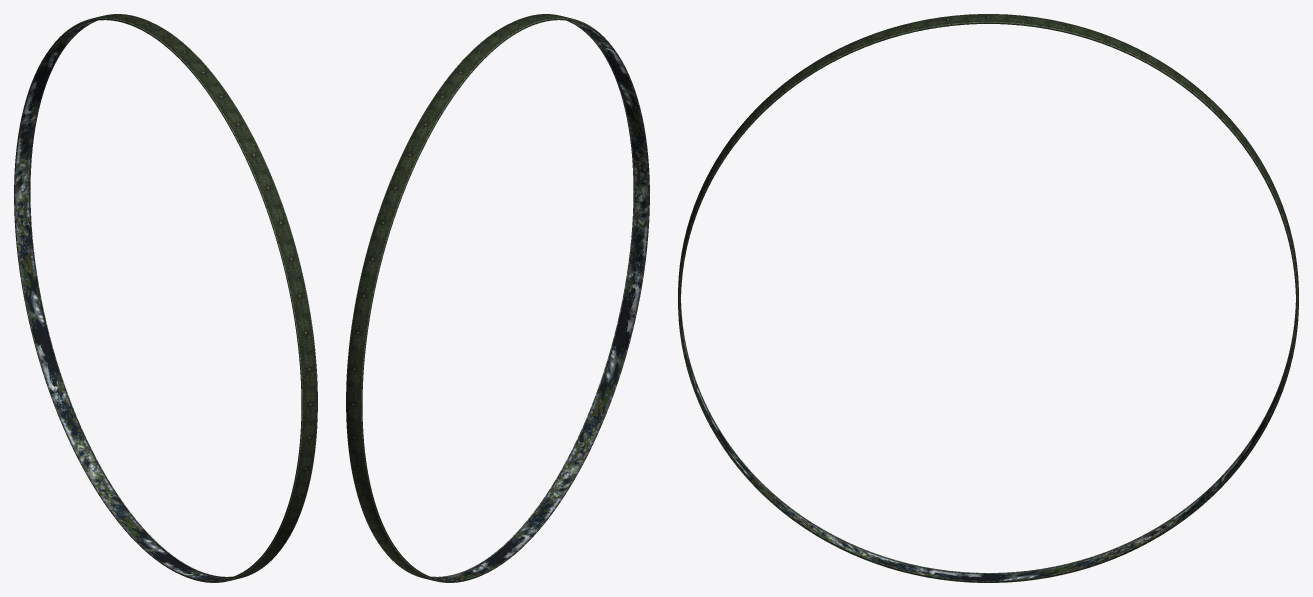
File: halo_reach_ring.glb
3 renders of one model, left to right at view 1: azimuth 30°, elevation 25°; view 2: azimuth 150°, elevation 25°; view 3: azimuth 270°, elevation 25°, orthographic. The views are drawn at different scales.
Visible parts, largest first — view 1: Object_3, Object_2, Object_4; view 2: Object_3, Object_2, Object_4; view 3: Object_3, Object_4, Object_2.
Part boxes in pixels (left/top/right/bottom): Object_3: left=55, top=14, right=317, bottom=582; Object_2: left=15, top=21, right=229, bottom=580; Object_4: left=14, top=19, right=317, bottom=581; Object_3: left=346, top=14, right=608, bottom=582; Object_2: left=434, top=21, right=648, bottom=580; Object_4: left=346, top=19, right=649, bottom=581; Object_3: left=678, top=14, right=1298, bottom=582; Object_4: left=679, top=22, right=1297, bottom=582; Object_2: left=682, top=329, right=1294, bottom=580.
Size of the model in its own units: 202 by 6255 by 6255.
3 materials, 3 textured.
